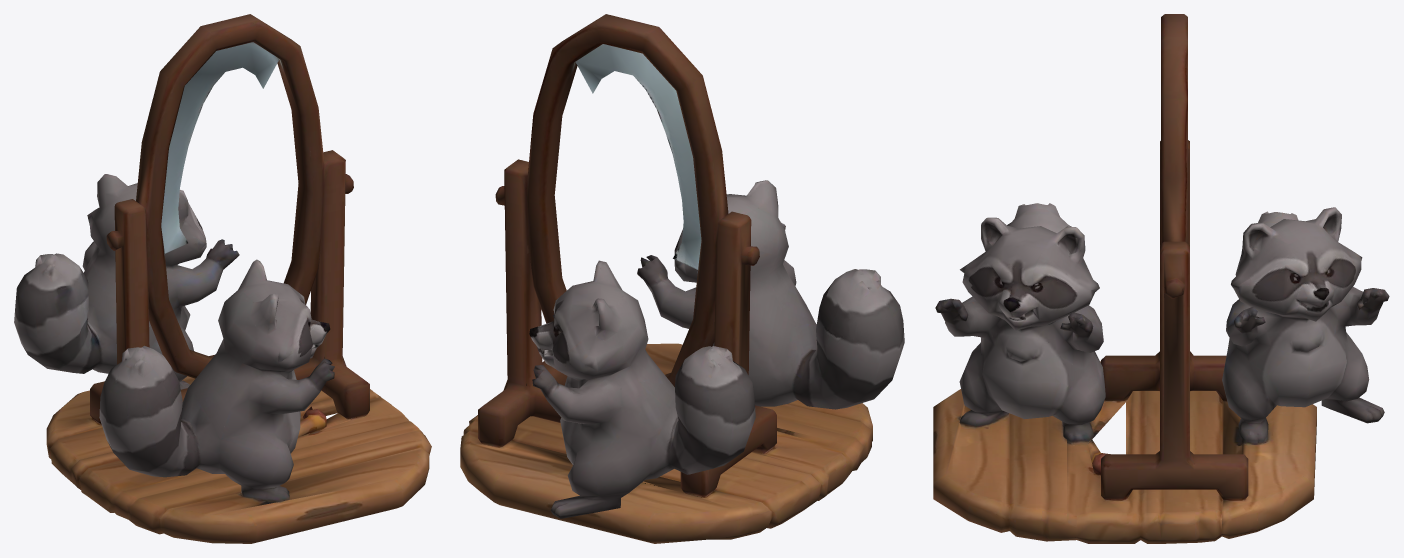
The model's file is raccoonmirror.glb.
3 renders of one model, left to right at view 1: azimuth 30°, elevation 25°; view 2: azimuth 150°, elevation 25°; view 3: azimuth 270°, elevation 25°, orthographic. The views are drawn at different scales.
Visible parts, largest first — view 1: tripo_node_389c1c0c-3cb4-4486-bfaf-781be7cdaeb9; view 2: tripo_node_389c1c0c-3cb4-4486-bfaf-781be7cdaeb9; view 3: tripo_node_389c1c0c-3cb4-4486-bfaf-781be7cdaeb9.
Part boxes in pixels (bbox=[...]): tripo_node_389c1c0c-3cb4-4486-bfaf-781be7cdaeb9: bbox=[14, 14, 431, 543]; tripo_node_389c1c0c-3cb4-4486-bfaf-781be7cdaeb9: bbox=[460, 14, 904, 543]; tripo_node_389c1c0c-3cb4-4486-bfaf-781be7cdaeb9: bbox=[933, 14, 1389, 543].
Bounding box in the file's own units: 0.7978 × 0.9776 × 0.9011.
Materials: 1 (1 with a texture image).
